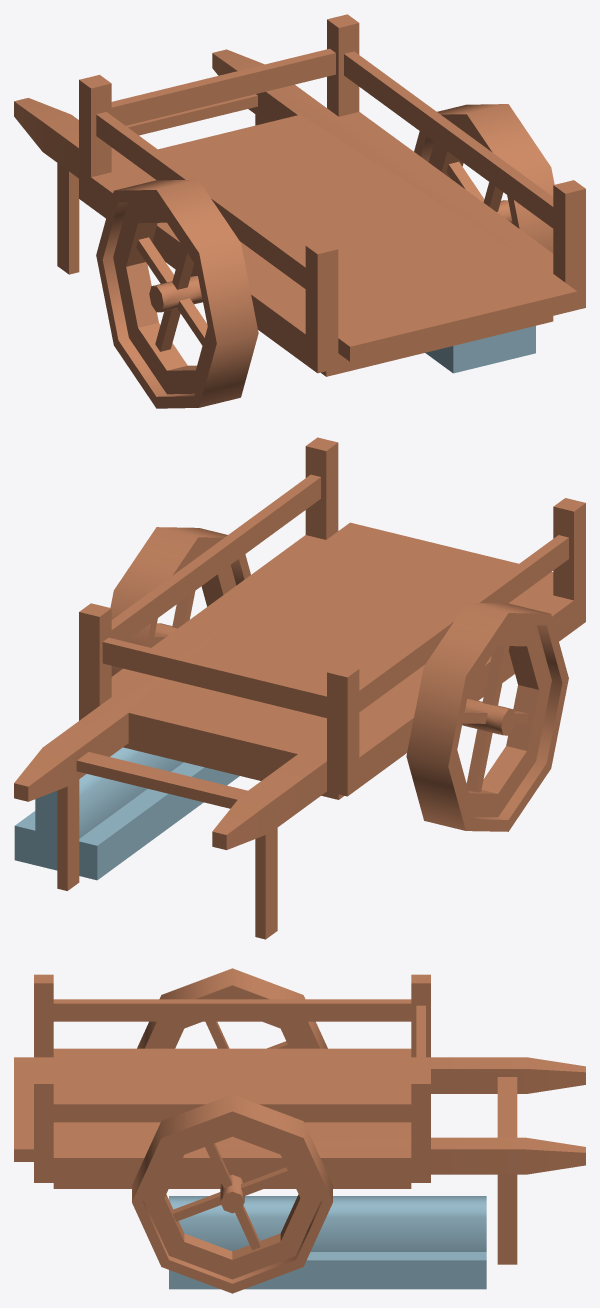
File: supply.glb
3 views of the same model, one above another, from view 1: azimuth 30°, elevation 25°; view 2: azimuth 150°, elevation 25°; view 3: azimuth 270°, elevation 25° (orthographic). The views are drawn at different scales.
Size of the model in its own units: 8.53 by 5.36 by 14.4.
